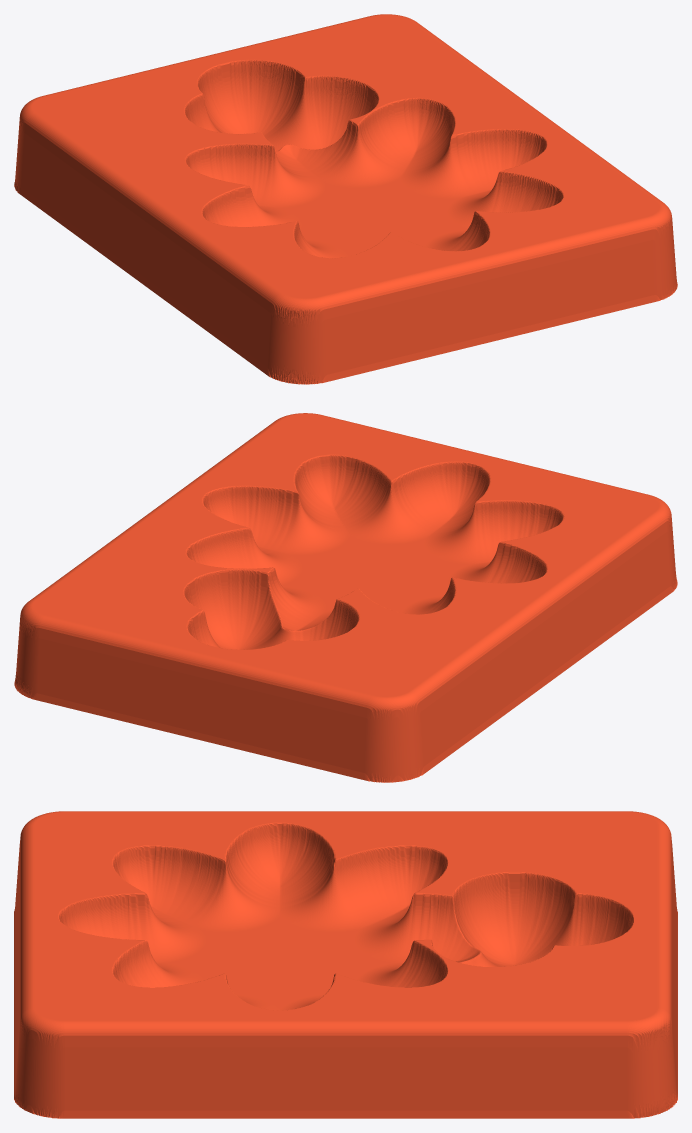
Rendered from mold.glb.
3 views of the same model, one above another, from view 1: azimuth 30°, elevation 25°; view 2: azimuth 150°, elevation 25°; view 3: azimuth 270°, elevation 25° (orthographic). The views are drawn at different scales.
Visible parts, largest first — view 1: geometry_0; view 2: geometry_0; view 3: geometry_0.
Part boxes in pixels (x1,y1,x2,y2): geometry_0: (14,14,677,384); geometry_0: (14,413,677,782); geometry_0: (14,811,677,1118).
Size of the model in its own units: 0.0946 by 0.0175 by 0.1178.
